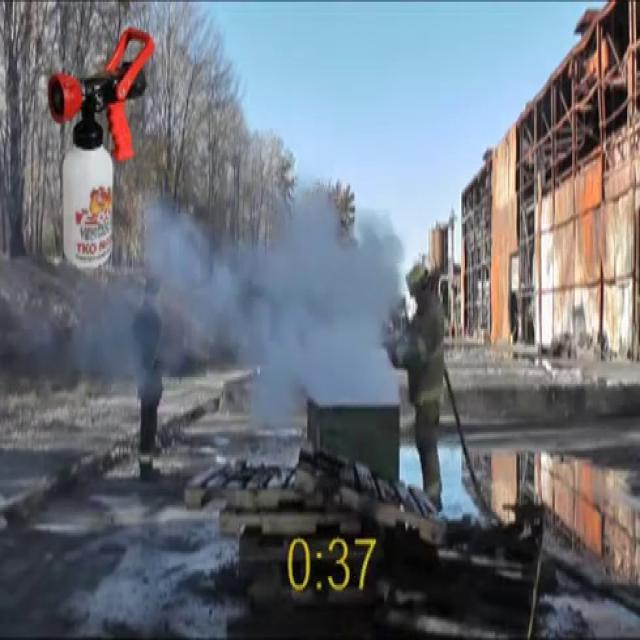Smoke: (104, 142, 403, 430)
